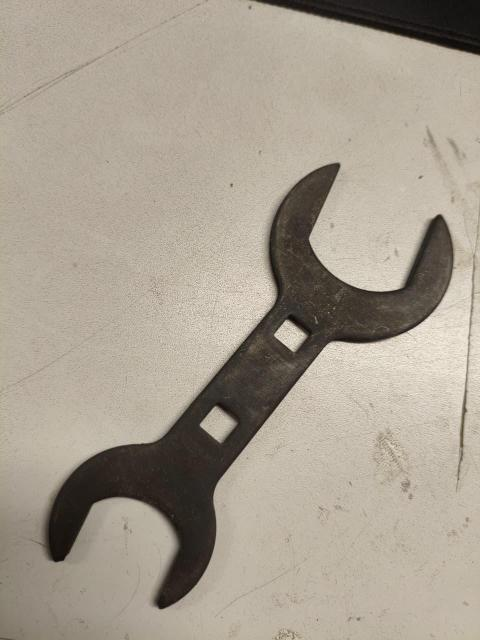Metal: (47, 157, 467, 613)
